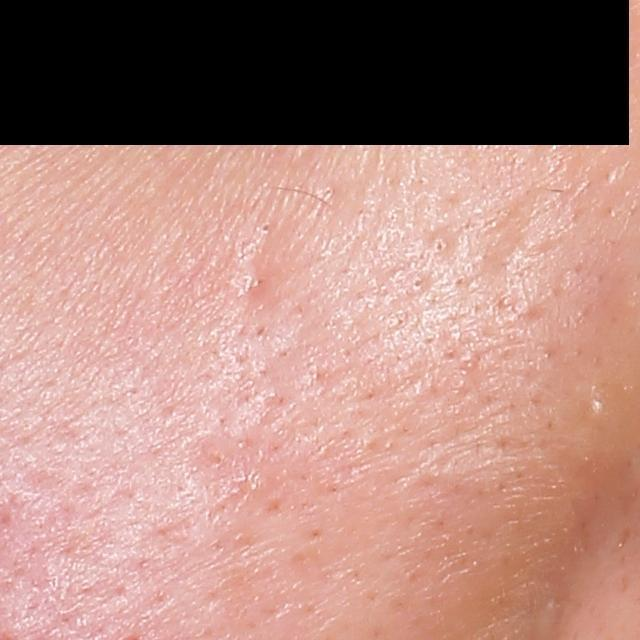atrophic_scar: (465, 190, 539, 283), (183, 429, 260, 505), (231, 251, 274, 311)
comedo: (430, 233, 451, 257), (408, 274, 425, 293), (259, 220, 271, 236)
